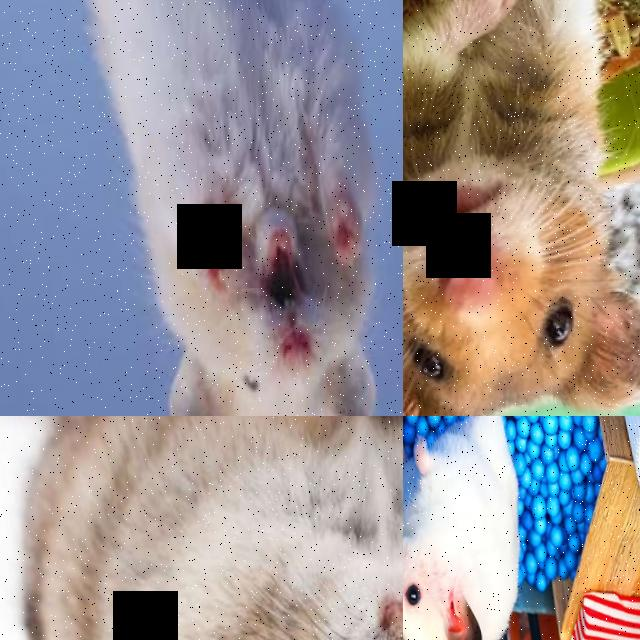hamster: (66, 0, 391, 416), (403, 0, 640, 416), (2, 416, 403, 640), (403, 416, 544, 640)
